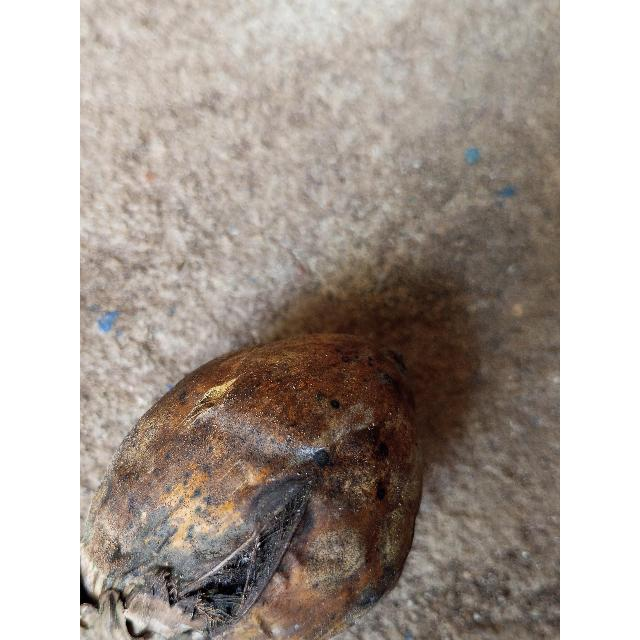damaged: (80, 327, 435, 640)
